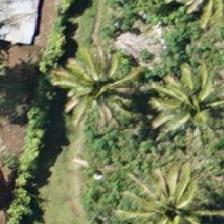coconut_tree: (61, 35, 151, 125), (153, 49, 223, 139), (127, 159, 217, 223)
